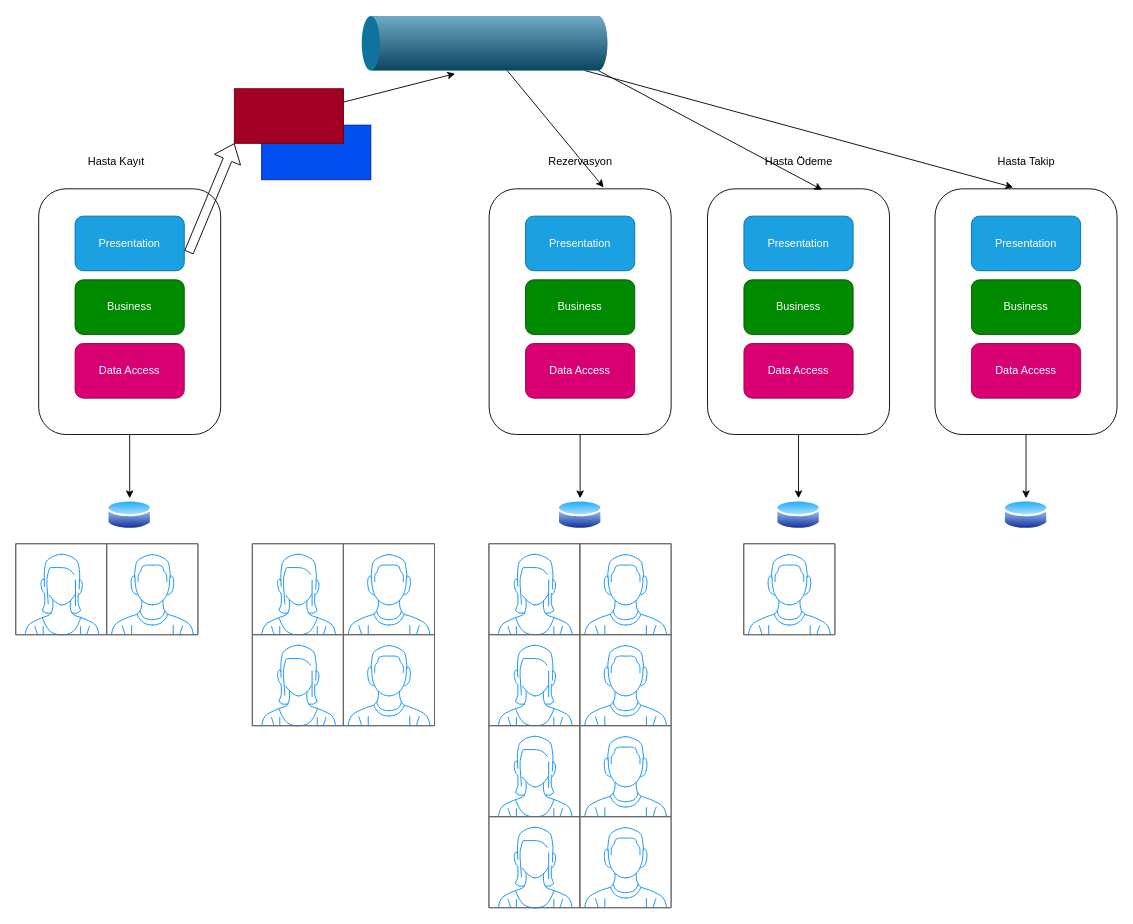
This 1133x924 diagram has some shape labels left out. Here are the shapes that lost their labels. From the top down, the centre of each, then its label:
point 288,115: Yeni Hasta Kaydedildi
point 316,152: Hasta Bilgisi
